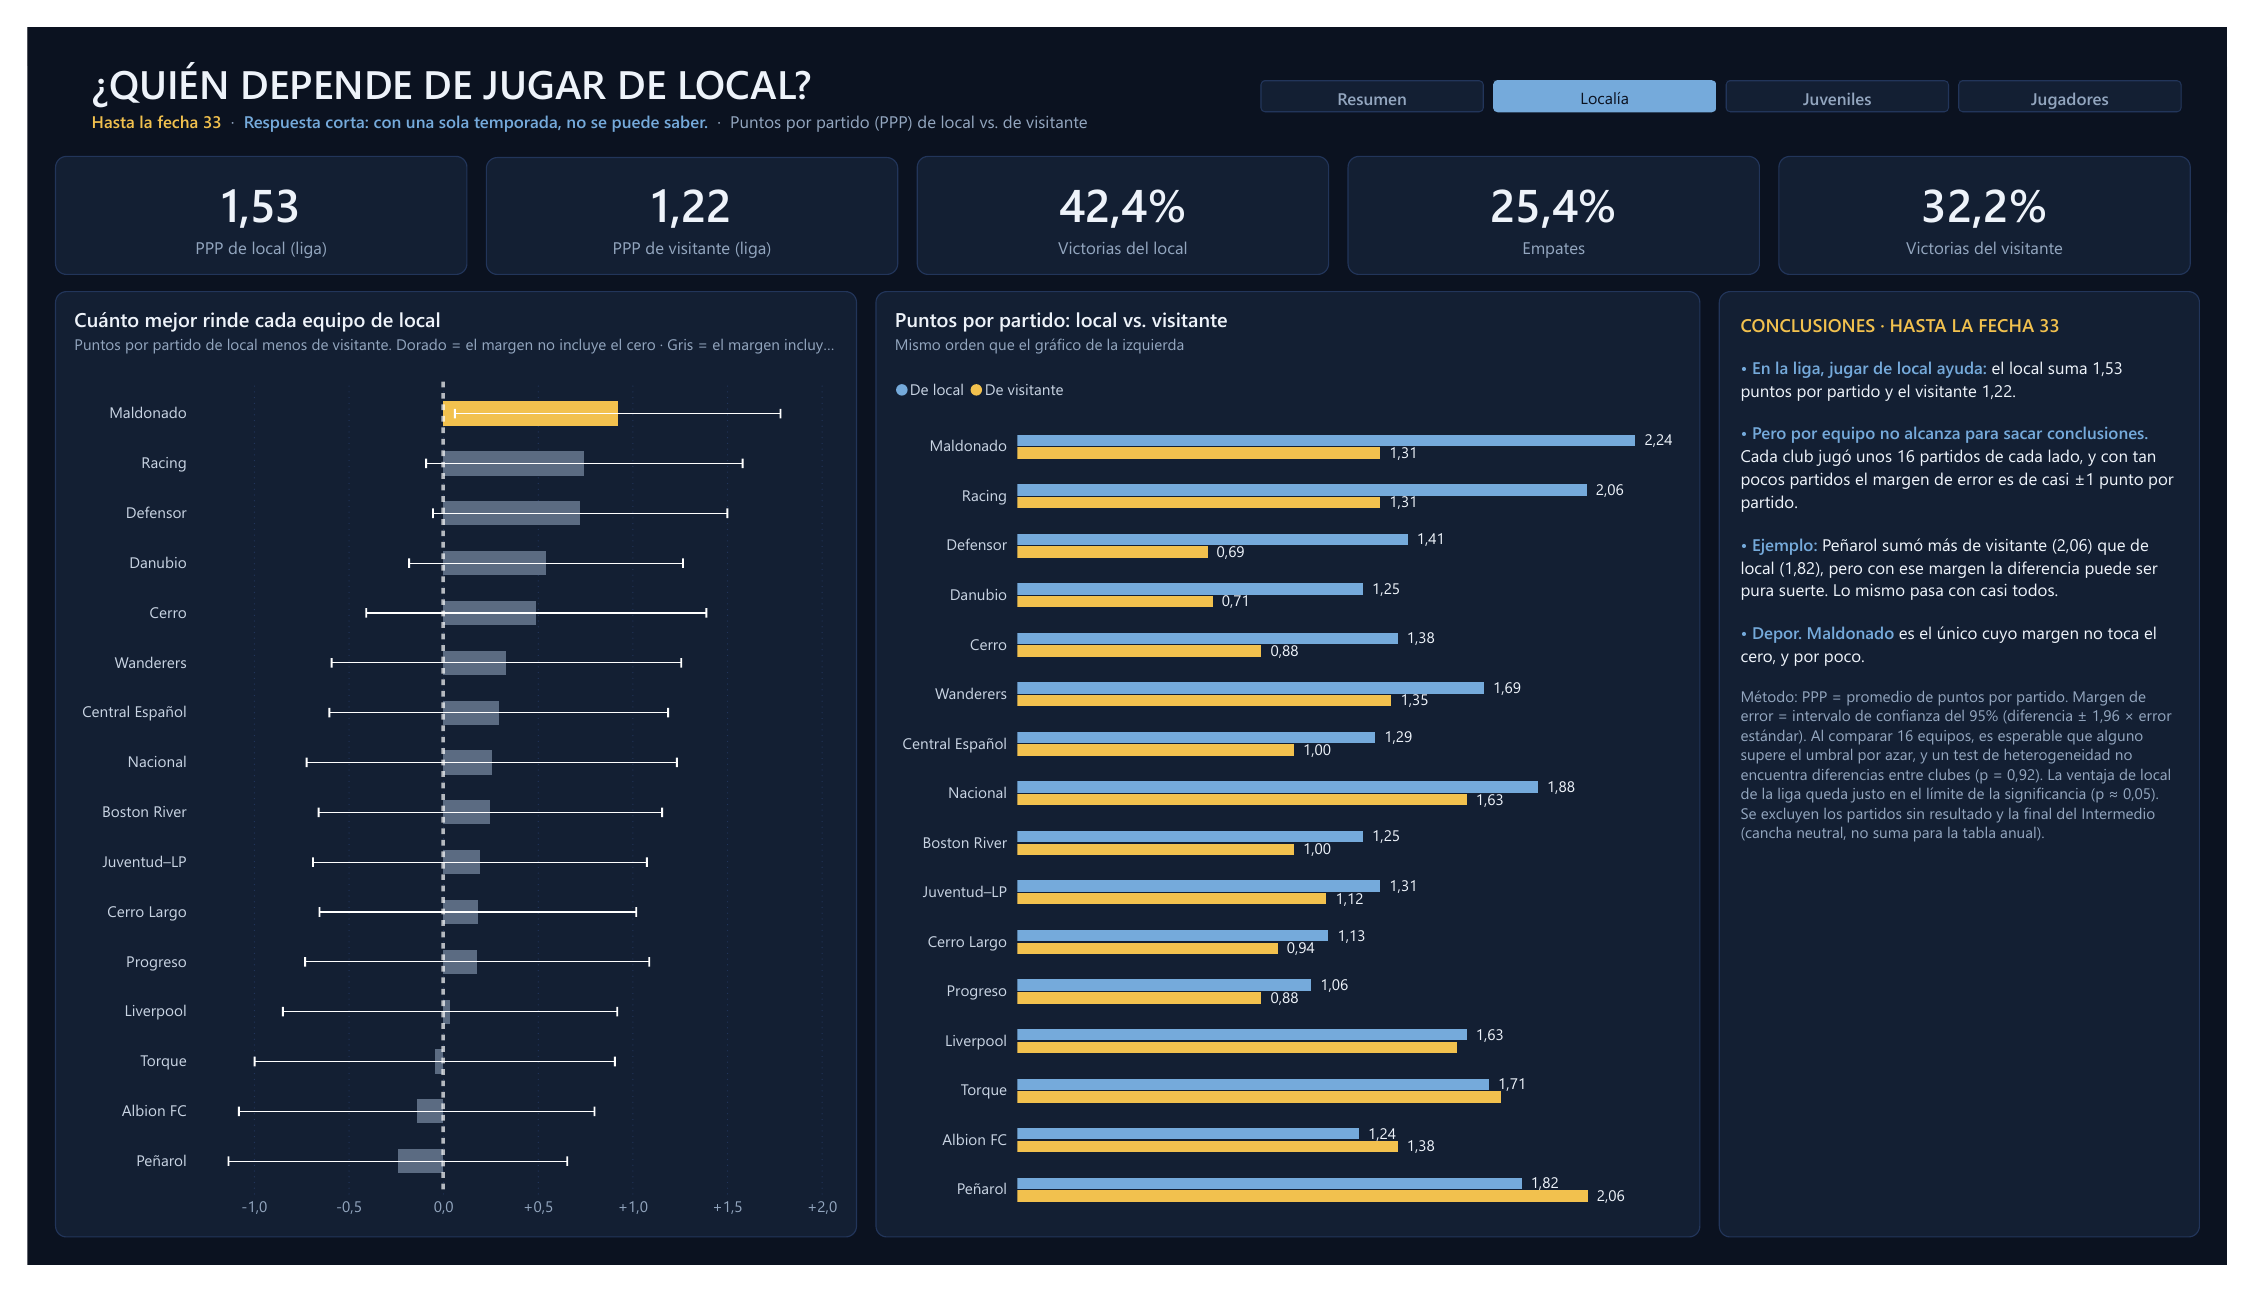

What the dashboard file says about the page in this screenshot:
{"tool":"powerbi","page":{"name":"Localía","canvas":[1920,1080],"ordinal":1},"visuals":[{"type":"shape","box":[24,26,6,60],"z":100},{"type":"textbox","box":[40,14,1100,90],"z":200},{"type":"pageNavigator","box":[1060,34,836,52],"z":300},{"type":"card","fields":{"Values":["Partidos.PPP Local"]},"box":[24,112,360,104],"z":500},{"type":"card","fields":{"Values":["Partidos.PPP Visitante"]},"box":[400,112.5,360,103.8],"z":600},{"type":"card","fields":{"Values":["Partidos.% Victorias Local"]},"box":[776,112,360,104],"z":700},{"type":"card","fields":{"Values":["Partidos.% Empates"]},"box":[1152,112,360,104],"z":800},{"type":"card","fields":{"Values":["Partidos.% Victorias Visitante"]},"box":[1528,112,360,104],"z":900},{"type":"clusteredBarChart","title":"Cuánto mejor rinde cada equipo de local","fields":{"Category":["Equipos.Equipo"],"Y":["Partidos.Dependencia Local"]},"box":[24,230,700,826],"z":1000},{"type":"clusteredBarChart","title":"Puntos por partido: local vs. visitante","fields":{"Category":["Equipos.Equipo"],"Y":["Partidos.PPP Local","Partidos.PPP Visitante"]},"box":[740,230,720,826],"z":1100},{"type":"textbox","box":[1476,230,420,826],"z":1200}]}

Visuals, with their boxes in screenshot pixels (x1, y1, x2, y2), scaled from the page's 1920x1080 canvas onto the 2255x1293 screenshot:
shape: (28,31,35,103)
textbox: (47,17,1339,125)
pageNavigator: (1245,41,2227,103)
card - Partidos.PPP Local: (28,134,451,259)
card - Partidos.PPP Visitante: (470,135,893,259)
card - Partidos.% Victorias Local: (911,134,1334,259)
card - Partidos.% Empates: (1353,134,1776,259)
card - Partidos.% Victorias Visitante: (1795,134,2217,259)
"Cuánto mejor rinde cada equipo de local" clusteredBarChart: (28,275,850,1264)
"Puntos por partido: local vs. visitante" clusteredBarChart: (869,275,1715,1264)
textbox: (1734,275,2227,1264)
